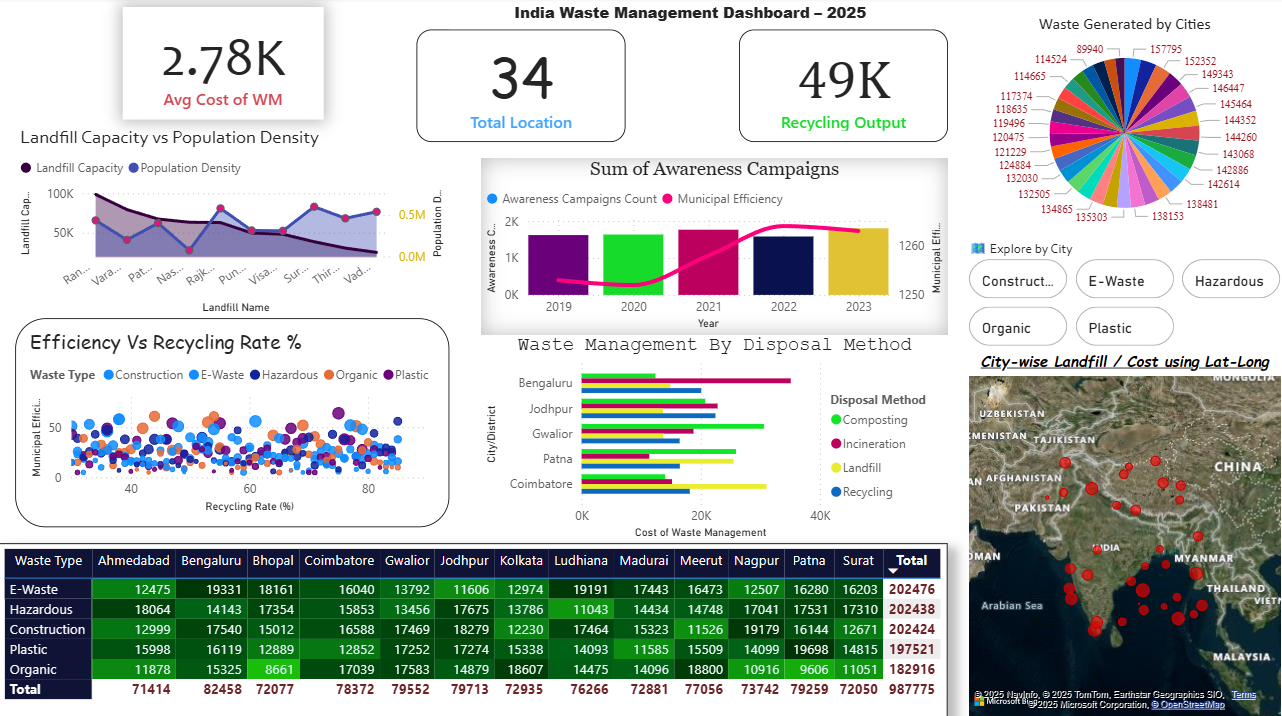

This screenshot's page, from the dashboard's own definition file:
{"tool":"powerbi","page":{"name":"Page 1","canvas":[1280,720],"ordinal":0},"visuals":[{"type":"card","fields":{"Values":["Count(Waste_Management_and_Recycling_.City/District)"]},"box":[416,32,208,112],"z":0},{"type":"card","fields":{"Values":["Avg(Waste_Management_and_Recycling_.Cost of Waste Management (₹/Ton))"]},"box":[123,10,200,112],"z":1000},{"type":"card","fields":{"Values":["Sum(Waste_Management_and_Recycling_.Recycling Rate (%))"]},"box":[736,32,208,112],"z":2000},{"type":"clusteredBarChart","title":"Waste Management By Disposal Method","fields":{"Category":["Waste_Management_and_Recycling_.City/District"],"Y":["Sum(Waste_Management_and_Recycling_.Cost of Waste Management (₹/Ton))"],"Series":["Waste_Management_and_Recycling_.Disposal Method"]},"box":[480,336,464,208],"z":3000},{"type":"scatterChart","title":"Efficiency Vs Recycling Rate %","fields":{"Y":["Sum(Waste_Management_and_Recycling_.Municipal Efficiency Score (1-10))"],"X":["Waste_Management_and_Recycling_.Recycling Rate (%)"],"Series":["Waste_Management_and_Recycling_.Waste Type"],"Size":["Sum(Waste_Management_and_Recycling_.Waste Generated (Tons/Day))"]},"box":[16,320,432,208],"z":4000},{"type":"map","title":"City-wise Landfill / Cost using Lat-Long","fields":{"X":["Waste_Management_and_Recycling_.Landfill Longitude"],"Y":["Waste_Management_and_Recycling_.Landfill Latitude"],"Size":["Sum(Waste_Management_and_Recycling_.Cost of Waste Management (₹/Ton))"]},"box":[960,352,320,368],"z":5000},{"type":"pivotTable","title":"Waste Type","fields":{"Rows":["Waste_Management_and_Recycling_.Waste Type"],"Columns":["Waste_Management_and_Recycling_.City/District"],"Values":["Sum(Waste_Management_and_Recycling_.Cost of Waste Management (₹/Ton))"]},"box":[0,544,944,176],"z":6000},{"type":"lineClusteredColumnComboChart","title":"Sum of Awareness Campaigns","fields":{"Category":["Waste_Management_and_Recycling_.Year"],"Y":["Sum(Waste_Management_and_Recycling_.Awareness Campaigns Count)"],"Y2":["Sum(Waste_Management_and_Recycling_.Municipal Efficiency Score (1-10))"]},"box":[480,160,464,176],"z":7000},{"type":"lineChart","title":"Landfill Capacity vs Population Density","fields":{"Y":["Avg(Waste_Management_and_Recycling_.Landfill Capacity (Tons))"],"Category":["Waste_Management_and_Recycling_.Landfill Name"],"Y2":["Sum(Waste_Management_and_Recycling_.Population Density (People/km²))"]},"box":[16,128,432,192],"z":8000},{"type":"pieChart","title":" Waste Generated by Cities","fields":{"Y":["Sum(Waste_Management_and_Recycling_.Waste Generated (Tons/Day))"],"Category":["Waste_Management_and_Recycling_.City/District"]},"box":[960,16,320,224],"z":9000},{"type":"textbox","box":[448,0,480,32],"z":10000},{"type":"advancedSlicerVisual","title":"🗺️ Explore by City","fields":{"Values":["Waste_Management_and_Recycling_.Waste Type"]},"box":[960,240,320,112],"z":11000}]}

Visuals, with their boxes in screenshot pixels (x1, y1, x2, y2), scaled from the page's 1280x720 canvas onto the 1282x716 screenshot:
card - Count(Waste_Management_and_Recycling_.City/District): l=417, t=32, r=625, b=143
card - Avg(Waste_Management_and_Recycling_.Cost of Waste Management (₹/Ton)): l=123, t=10, r=324, b=121
card - Sum(Waste_Management_and_Recycling_.Recycling Rate (%)): l=737, t=32, r=945, b=143
"Waste Management By Disposal Method" clusteredBarChart: l=481, t=334, r=945, b=541
"Efficiency Vs Recycling Rate %" scatterChart: l=16, t=318, r=449, b=525
"City-wise Landfill / Cost using Lat-Long" map: l=961, t=350, r=1281, b=715
"Waste Type" pivotTable: l=0, t=541, r=945, b=715
"Sum of Awareness Campaigns" lineClusteredColumnComboChart: l=481, t=159, r=945, b=334
"Landfill Capacity vs Population Density" lineChart: l=16, t=127, r=449, b=318
" Waste Generated by Cities" pieChart: l=961, t=16, r=1281, b=239
textbox: l=449, t=0, r=929, b=32
"🗺️ Explore by City" advancedSlicerVisual: l=961, t=239, r=1281, b=350
